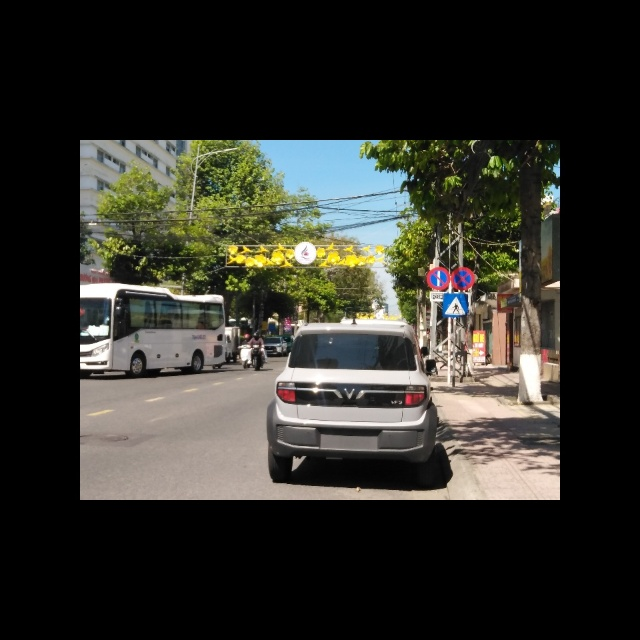Cấm dừng xe và đỗ xe: (451, 267, 475, 291)
Cấm đỗ xe ngày lẻ: (427, 267, 451, 291)
Đường dành cho người đi bộ: (442, 293, 468, 319)
